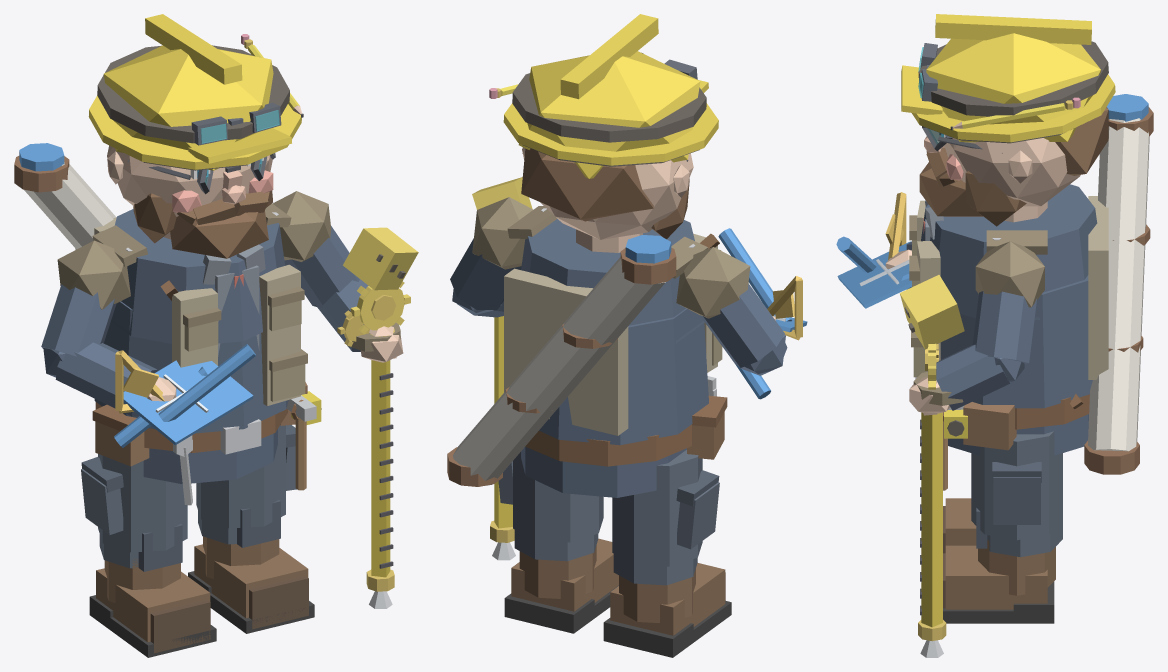
Rendered from builder.glb.
The picture shows the model from 3 angles, left to right: view 1: azimuth 30°, elevation 25°; view 2: azimuth 150°, elevation 25°; view 3: azimuth 270°, elevation 25°; orthographic projection. The views are drawn at different scales.
Parts seen in each view (by area): view 1: Builder; view 2: Builder; view 3: Builder.
Boxes of the visible parts, x1,y1,x2,y2 form: Builder: [14, 14, 418, 657]; Builder: [447, 14, 807, 657]; Builder: [836, 14, 1153, 657].
Bounding box in the file's own units: 1.13 × 1.84 × 0.9341.
